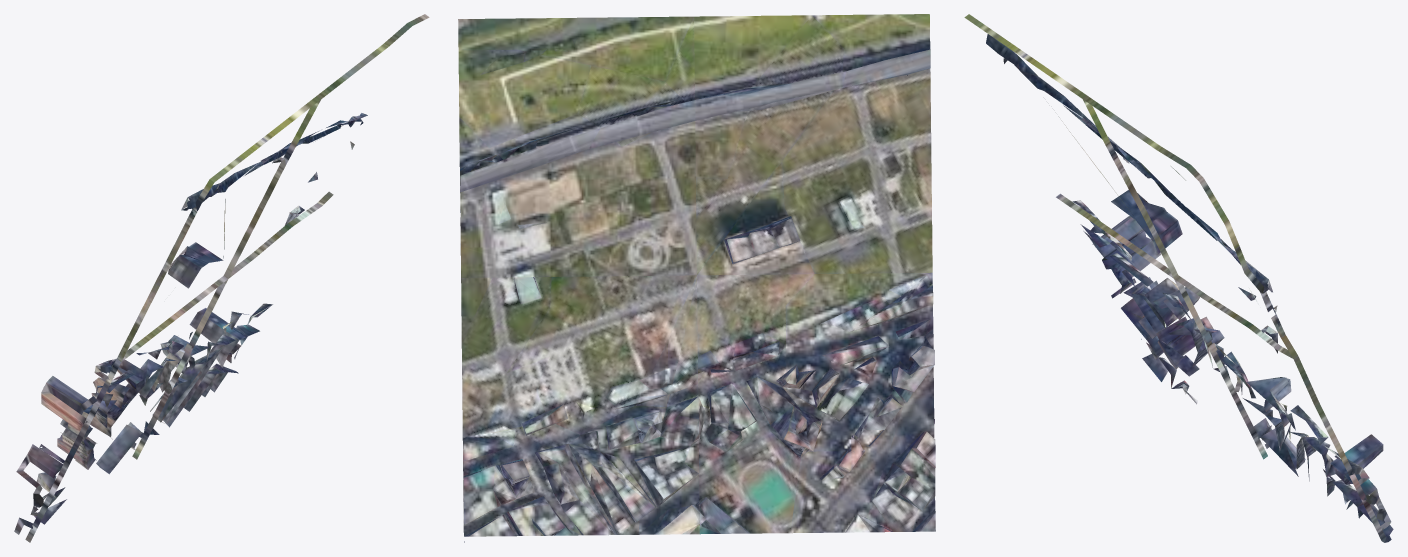
The picture shows the model from 3 angles, left to right: view 1: azimuth 30°, elevation 25°; view 2: azimuth 150°, elevation 25°; view 3: azimuth 270°, elevation 25°; orthographic projection. The views are drawn at different scales.
Bounding box in the file's own units: 622 × 558 × 526.
Materials: 2 (2 with a texture image).
